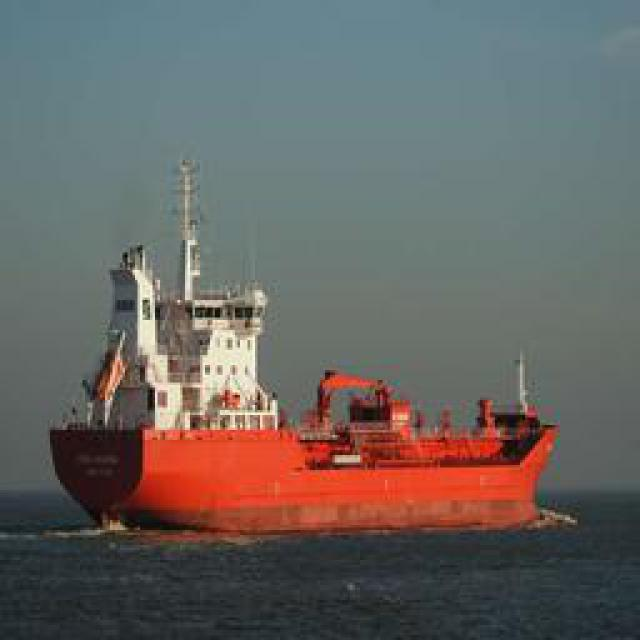Ship: (50, 333, 568, 541)
